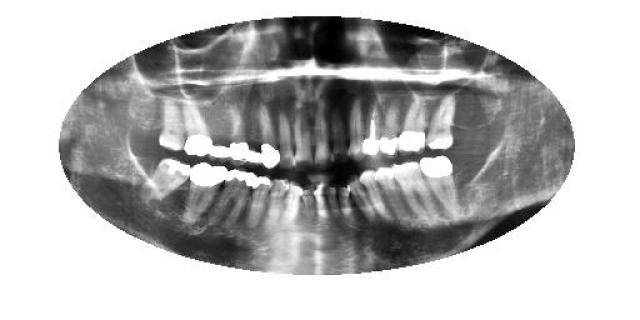Fillings: (209, 168, 256, 224), (186, 162, 228, 222), (420, 156, 460, 209), (146, 158, 192, 202), (396, 89, 426, 156), (184, 92, 212, 156), (256, 108, 282, 168), (427, 96, 455, 150), (248, 172, 272, 228), (229, 100, 249, 162), (378, 100, 398, 156), (242, 109, 260, 165), (210, 108, 228, 162)
Implant: (362, 105, 380, 157)
